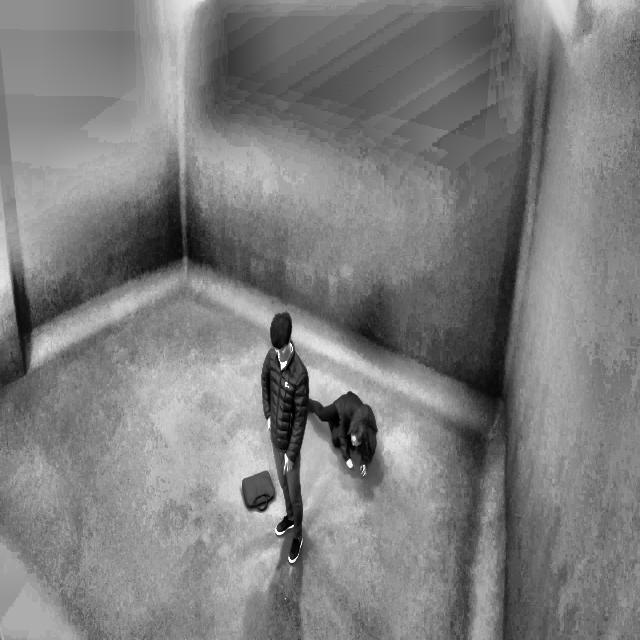assult: (259, 299, 385, 566), (310, 364, 375, 484)
